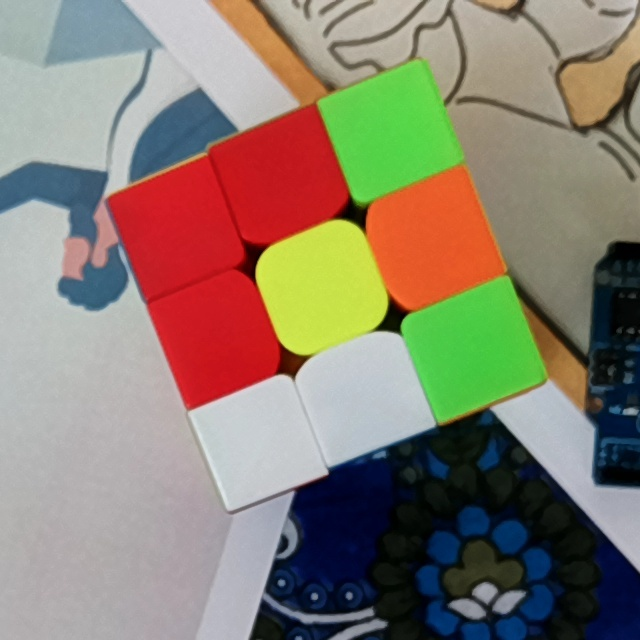tile: (389, 197, 476, 284), (132, 185, 219, 270), (277, 244, 365, 327), (240, 136, 326, 219), (172, 294, 258, 377), (431, 307, 518, 389), (347, 91, 437, 170), (325, 352, 408, 435), (221, 400, 300, 480)
